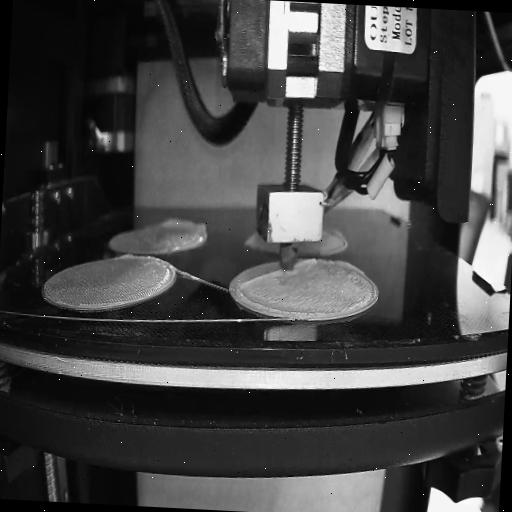over_extrusion: (236, 264, 280, 296), (160, 215, 210, 239), (334, 258, 368, 280), (326, 224, 350, 253), (116, 248, 136, 266), (296, 254, 316, 268)
